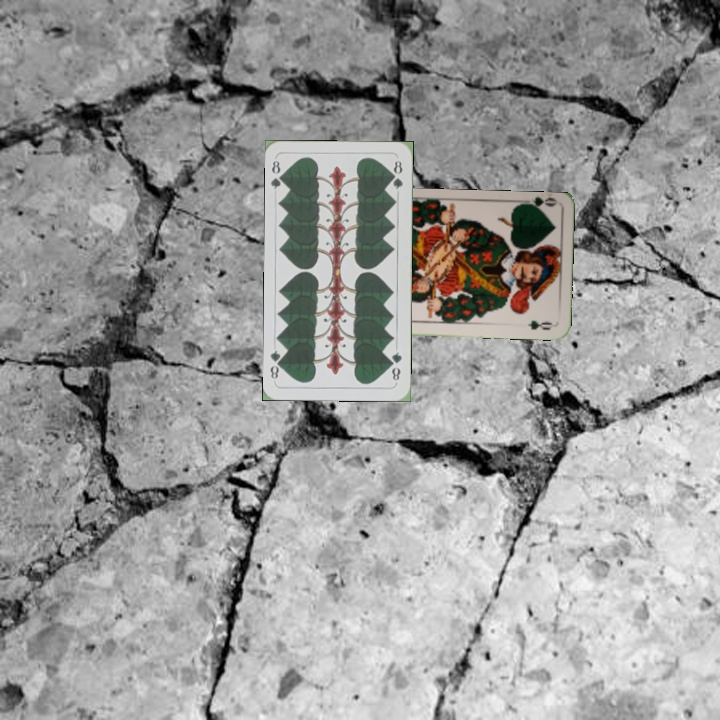G8: (268, 157, 287, 191), (387, 348, 405, 383)
GO: (518, 194, 558, 214)
